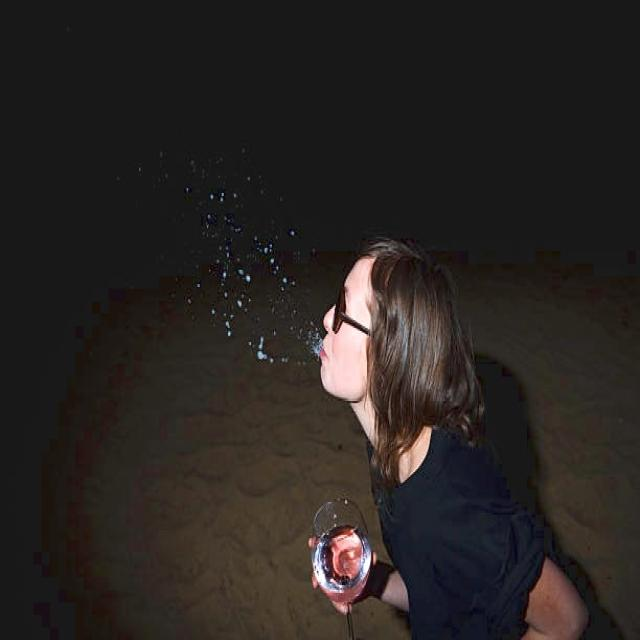Spitting: (217, 218, 478, 534)
